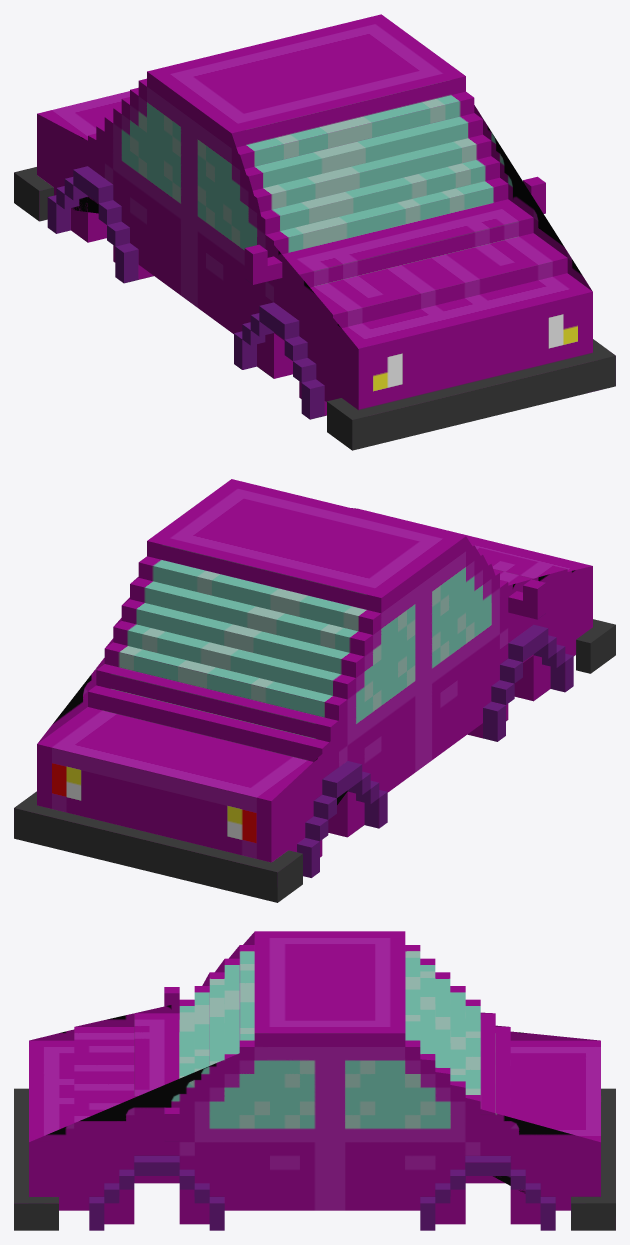
File: Car_Var3_1.obj
3 renders of one model, top to bottom at view 1: azimuth 30°, elevation 25°; view 2: azimuth 150°, elevation 25°; view 3: azimuth 270°, elevation 25°, orthographic. The views are drawn at different scales.
Visible parts, largest first — view 1: Car_Var3_1_Car_Var3_1.001; view 2: Car_Var3_1_Car_Var3_1.001; view 3: Car_Var3_1_Car_Var3_1.001.
Part boxes in pixels (x1,y1,x2,y2): Car_Var3_1_Car_Var3_1.001: (14,14,615,450); Car_Var3_1_Car_Var3_1.001: (14,479,615,902); Car_Var3_1_Car_Var3_1.001: (14,931,615,1230).
Bounding box in the file's own units: 2 × 1.4 × 4.
